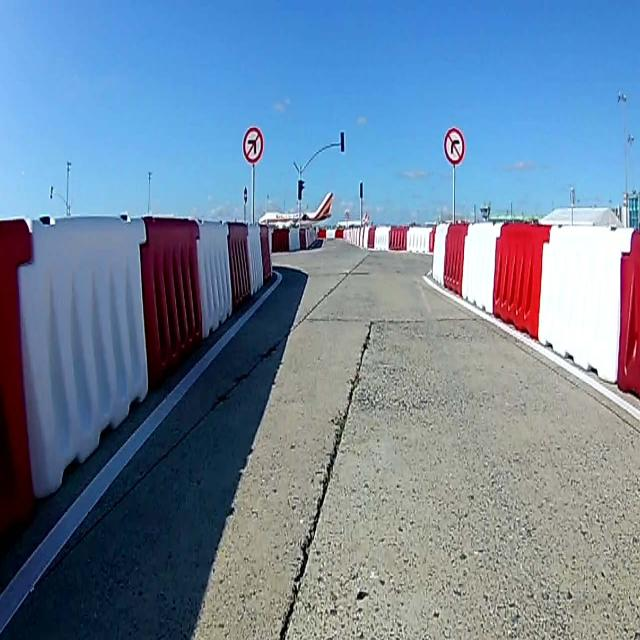sagadonulmez: (444, 128, 466, 163)
soladonulmez: (243, 127, 264, 162)
